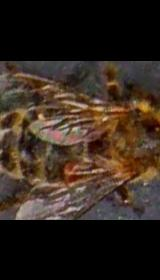varroa_mite: (61, 154, 82, 186)
